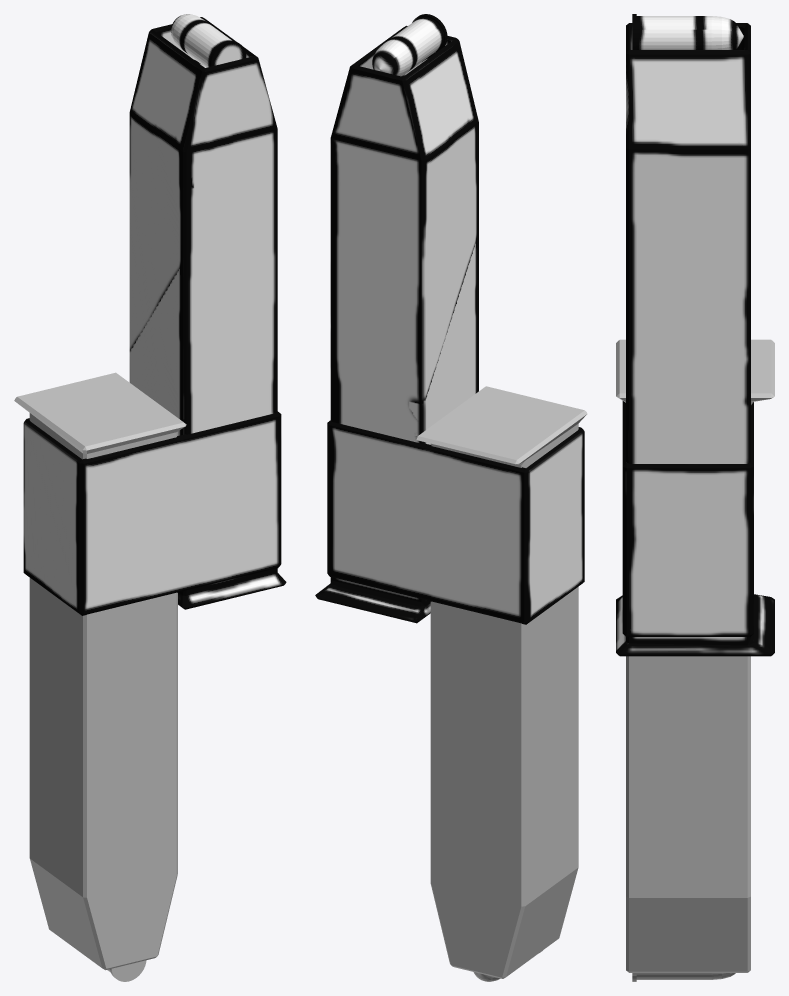
Rendered from magazine2.fbx.
The picture shows the model from 3 angles, left to right: view 1: azimuth 30°, elevation 25°; view 2: azimuth 150°, elevation 25°; view 3: azimuth 270°, elevation 25°; orthographic projection. The views are drawn at different scales.
Parts seen in each view (by area): view 1: Plane; view 2: Plane; view 3: Plane.
Part boxes in pixels (left/top/right/bottom): Plane: left=14, top=14, right=286, bottom=981; Plane: left=315, top=14, right=587, bottom=981; Plane: left=616, top=14, right=774, bottom=981.
Size of the model in its own units: 81.9 by 350 by 49.5.
